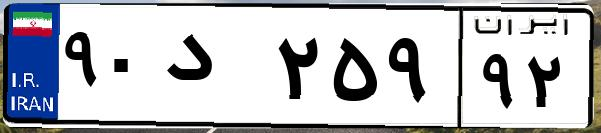0: (110, 28, 158, 98)
2: (270, 28, 330, 110), (525, 38, 570, 115)
5: (330, 28, 385, 110)
9: (385, 28, 445, 110), (57, 26, 110, 100), (475, 38, 525, 113)
د: (158, 20, 270, 120)
